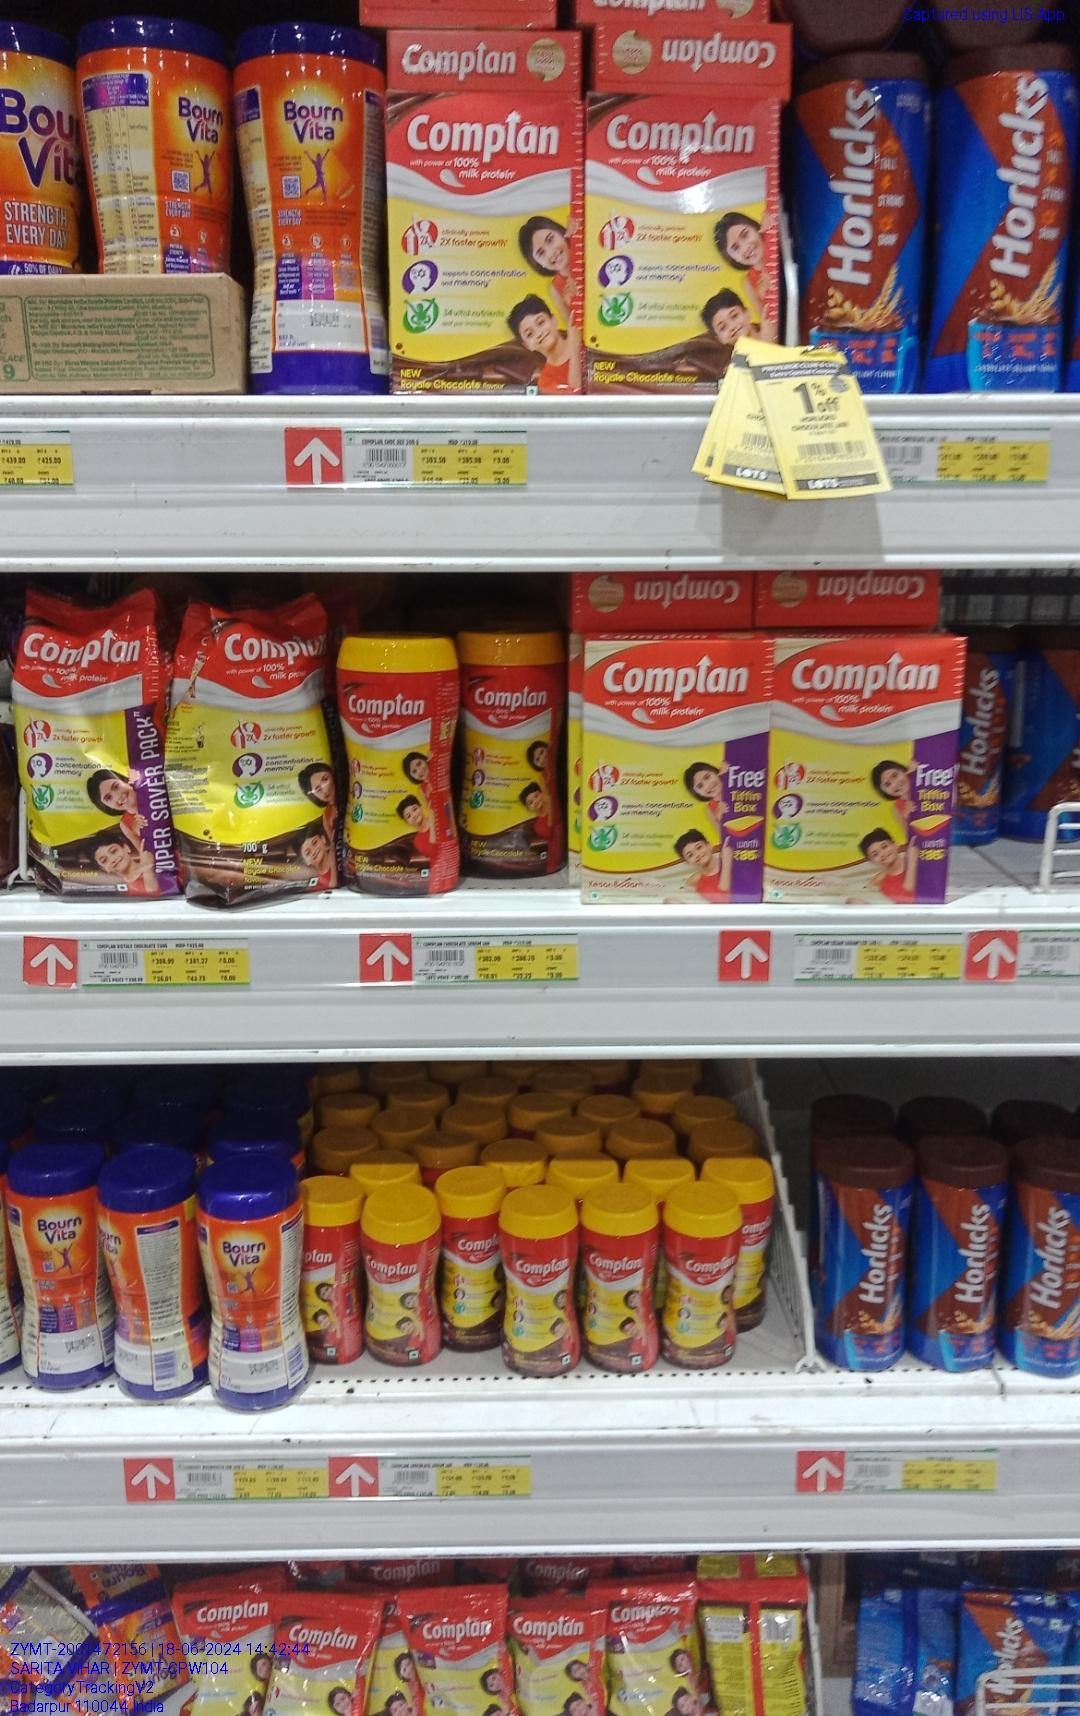COMPLAN_CHOCOLATE_200_GMS_JAR: (362, 1198, 443, 1369), (582, 1201, 659, 1373), (667, 1201, 740, 1373), (501, 1196, 574, 1370)
COMPLAN_CHOCOLATE_500_GMS_JAR: (342, 638, 459, 896), (464, 633, 567, 880)
COMPLAN_CHOCOLATE_500_GMS_PACK: (383, 92, 584, 396), (589, 93, 778, 345)
COMPLAN_KESAR_BADAM_500_GMS_PACK: (769, 638, 948, 905), (585, 638, 761, 906)
COMPLAN_RC_POUCH_700_GMS_12: (20, 595, 159, 905)
HORLICK_CHOCOLATE_500_G_JAR: (932, 49, 1070, 392), (794, 57, 923, 347), (821, 1152, 908, 1371), (918, 1151, 999, 1371), (1009, 1152, 1080, 1378)
